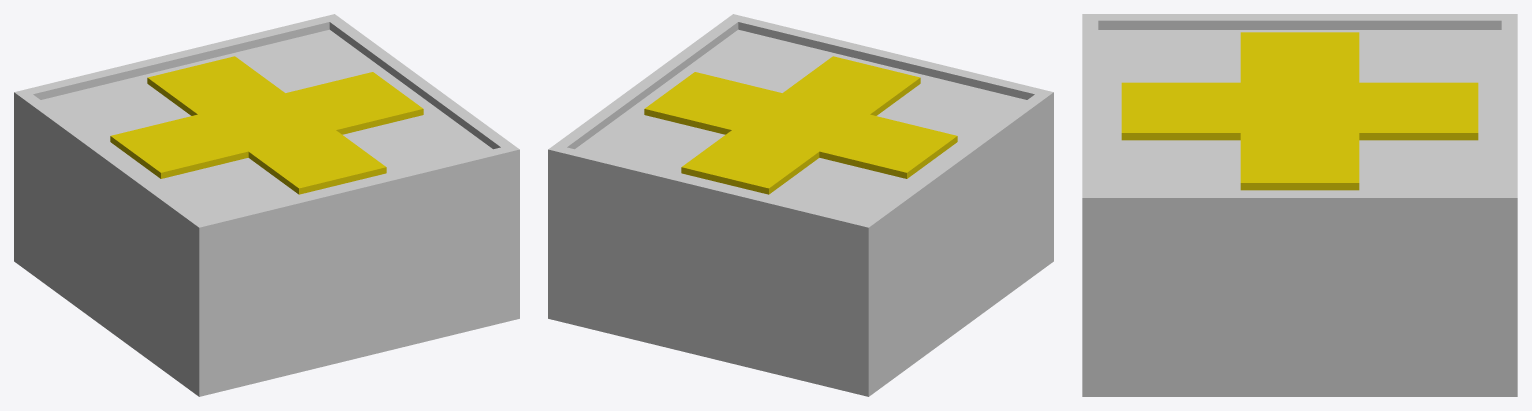
The model's file is SmallSquarePlatform.fbx.
The picture shows the model from 3 angles, left to right: view 1: azimuth 30°, elevation 25°; view 2: azimuth 150°, elevation 25°; view 3: azimuth 270°, elevation 25°; orthographic projection. The views are drawn at different scales.
Parts seen in each view (by area): view 1: SmallSquarePlatform; view 2: SmallSquarePlatform; view 3: SmallSquarePlatform.
Boxes of the visible parts, x1=… form: SmallSquarePlatform: x1=14, y1=14, x2=519, y2=396; SmallSquarePlatform: x1=548, y1=14, x2=1053, y2=396; SmallSquarePlatform: x1=1082, y1=14, x2=1517, y2=396.
Bounding box in the file's own units: 200 × 101 × 200.
